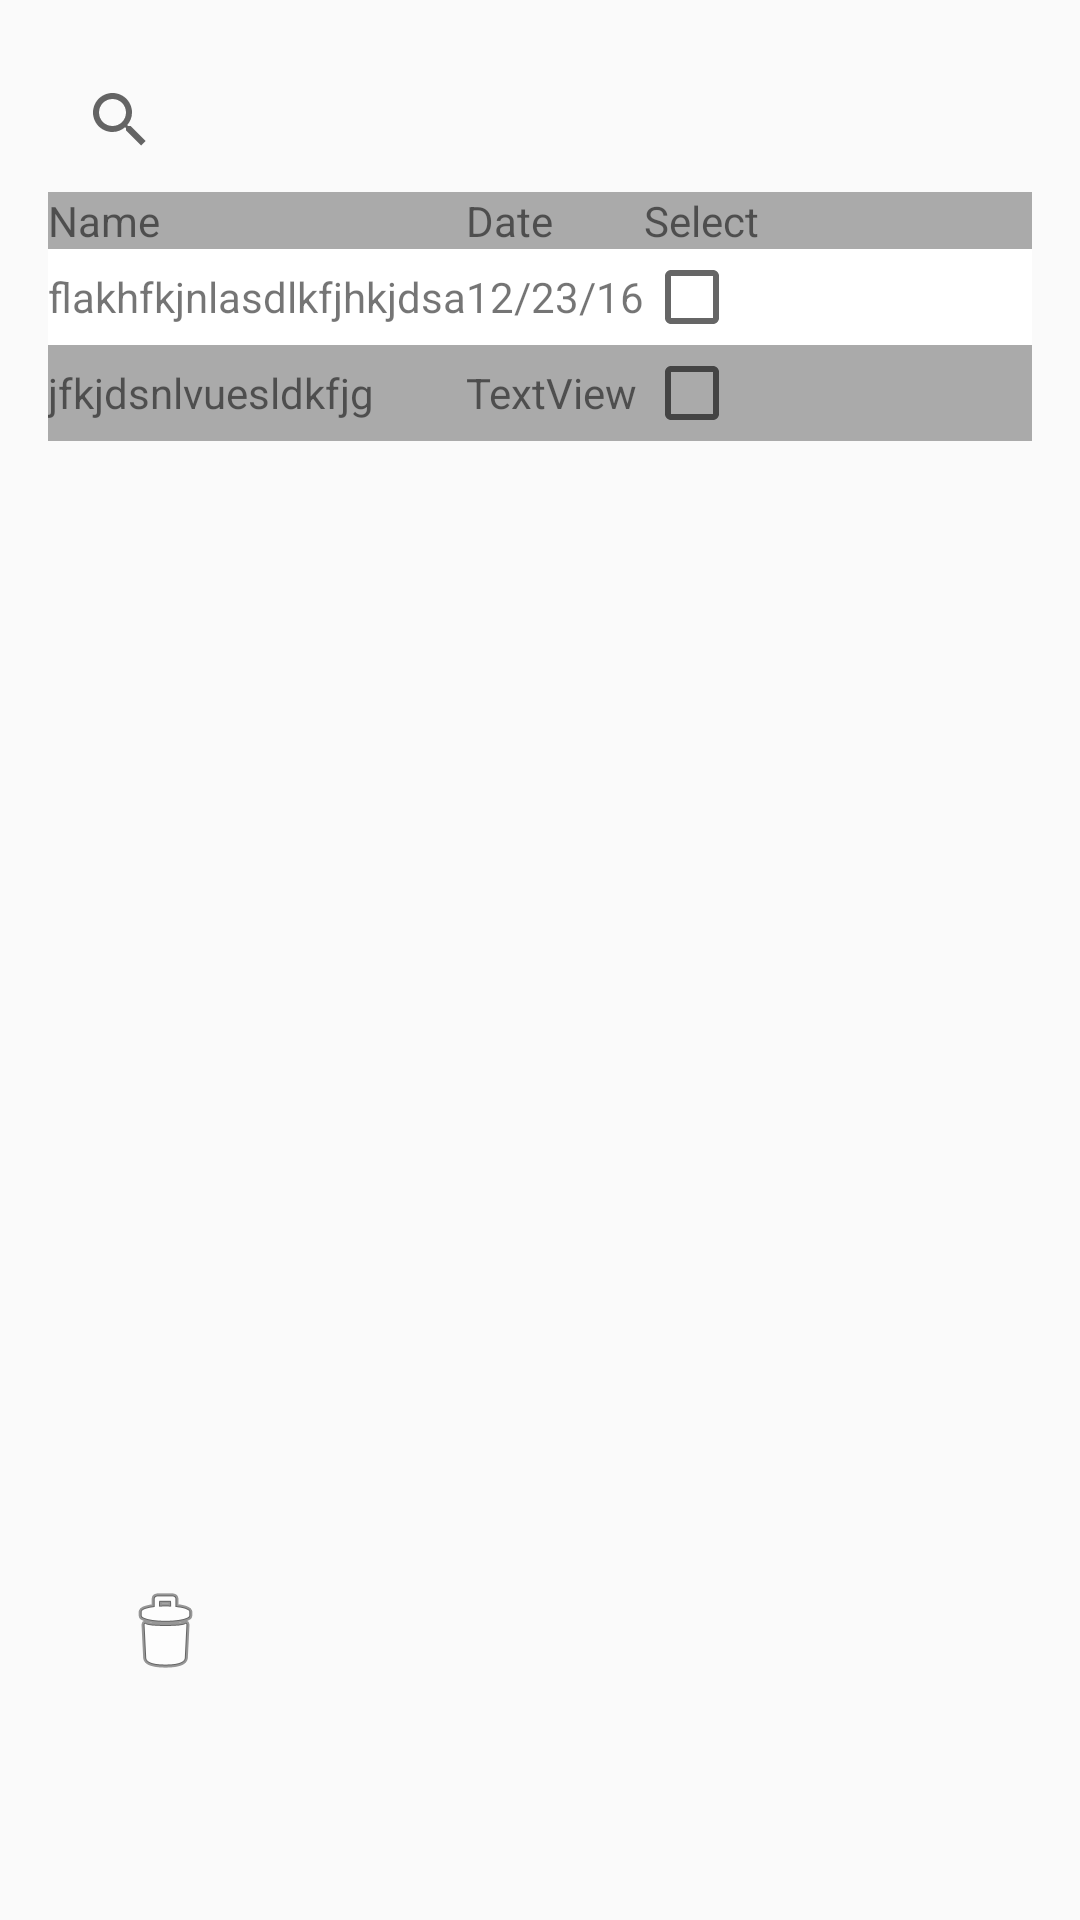

Icon bounding boxes for this 1080w x 1920h phone screenshot, format (x1, y1, x2, y2):
delete: (138, 1593, 193, 1668)
